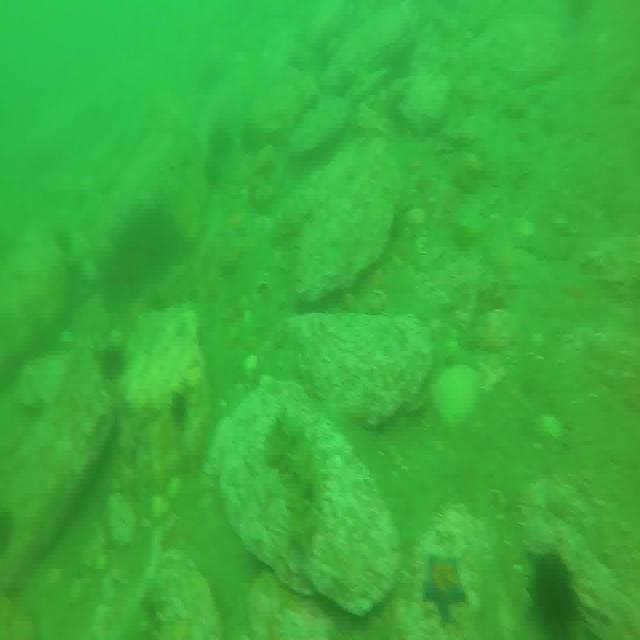echinus: (525, 551, 577, 640)
holothurian: (268, 411, 324, 554)
starfish: (420, 552, 464, 628)
